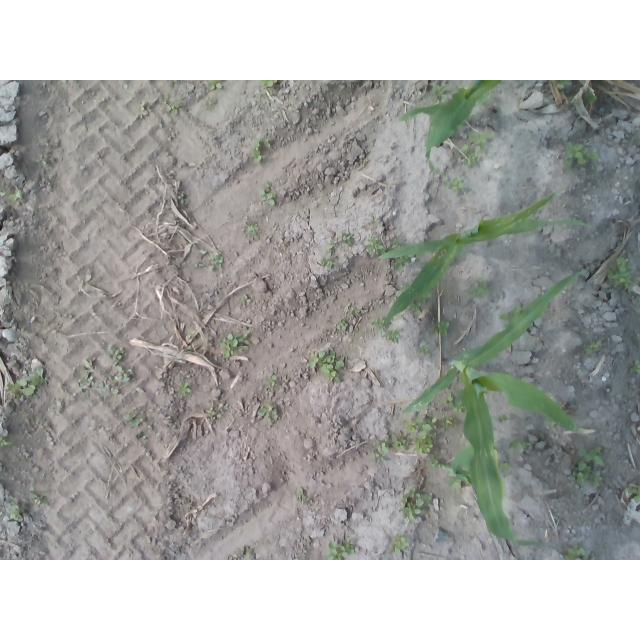Maize: (399, 269, 589, 552), (371, 192, 594, 320), (399, 81, 506, 176)
Weeds: (570, 446, 605, 487), (407, 416, 438, 456), (308, 350, 345, 383), (7, 367, 47, 397), (399, 486, 433, 520), (606, 256, 640, 290), (563, 140, 600, 169), (219, 333, 249, 358), (440, 388, 468, 413), (323, 540, 354, 560), (408, 292, 433, 316), (365, 236, 387, 261), (250, 138, 271, 163), (257, 402, 279, 425), (563, 545, 596, 560), (469, 130, 491, 151), (259, 182, 278, 206), (499, 304, 523, 323), (469, 277, 490, 298), (461, 144, 480, 167), (390, 533, 411, 553), (444, 177, 465, 196), (91, 380, 113, 397), (426, 456, 450, 471), (164, 94, 181, 115), (79, 358, 94, 381), (382, 328, 403, 344), (112, 364, 130, 382), (106, 343, 123, 362), (431, 320, 451, 336), (124, 413, 145, 428), (626, 483, 640, 505), (432, 83, 449, 101), (441, 415, 460, 431), (10, 503, 27, 520), (207, 251, 223, 269), (584, 339, 603, 354), (1, 190, 24, 202), (395, 254, 412, 270), (508, 439, 532, 450), (29, 492, 49, 505), (391, 433, 405, 451), (135, 102, 149, 119), (395, 281, 411, 295), (387, 235, 403, 249), (177, 381, 191, 397), (549, 80, 573, 89), (583, 91, 597, 106), (374, 440, 389, 453), (321, 258, 335, 271), (266, 374, 279, 388), (371, 450, 385, 463), (235, 549, 255, 558), (247, 221, 259, 235), (447, 479, 462, 490), (371, 317, 386, 328), (629, 359, 640, 374), (338, 319, 348, 333), (345, 232, 355, 246), (298, 486, 306, 503), (500, 460, 511, 472), (179, 193, 190, 205), (185, 328, 196, 340), (208, 80, 222, 89), (348, 305, 360, 315), (325, 241, 335, 253), (33, 156, 48, 164), (258, 81, 274, 88), (1, 437, 12, 447), (418, 346, 430, 355), (191, 261, 205, 268), (205, 409, 218, 416), (241, 295, 252, 303), (549, 420, 558, 429), (499, 414, 509, 422), (196, 249, 207, 256), (139, 434, 147, 441), (634, 307, 640, 314), (636, 333, 640, 341), (169, 81, 179, 84)
